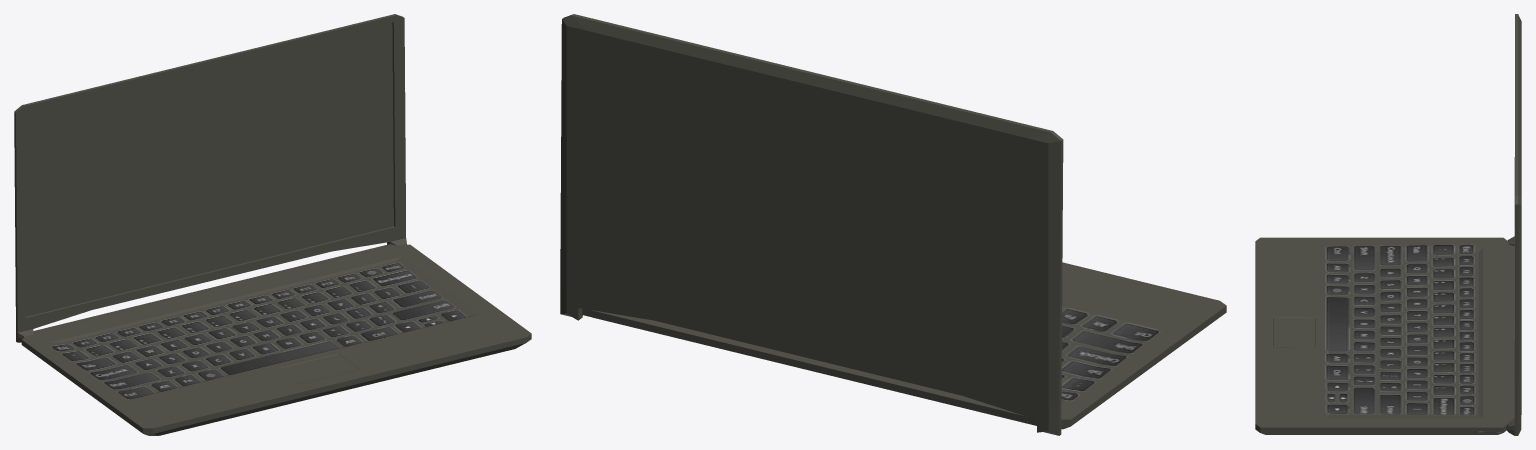
File: portatil.fbx
3 views of the same model, side by side, from view 1: azimuth 30°, elevation 25°; view 2: azimuth 150°, elevation 25°; view 3: azimuth 270°, elevation 25° (orthographic). The views are drawn at different scales.
Visible parts, largest first — view 1: pantallaPortatil, tecladoPortatil; view 2: pantallaPortatil, tecladoPortatil; view 3: tecladoPortatil, pantallaPortatil.
Part boxes in pixels (<box>): pantallaPortatil: <box>14,14,406,342</box>; tecladoPortatil: <box>21,244,531,435</box>; pantallaPortatil: <box>560,14,1063,435</box>; tecladoPortatil: <box>582,262,1226,429</box>; tecladoPortatil: <box>1255,237,1514,434</box>; pantallaPortatil: <box>1506,14,1521,435</box>.
Bounding box in the file's own units: 33.34 × 19.5 × 19.7.
